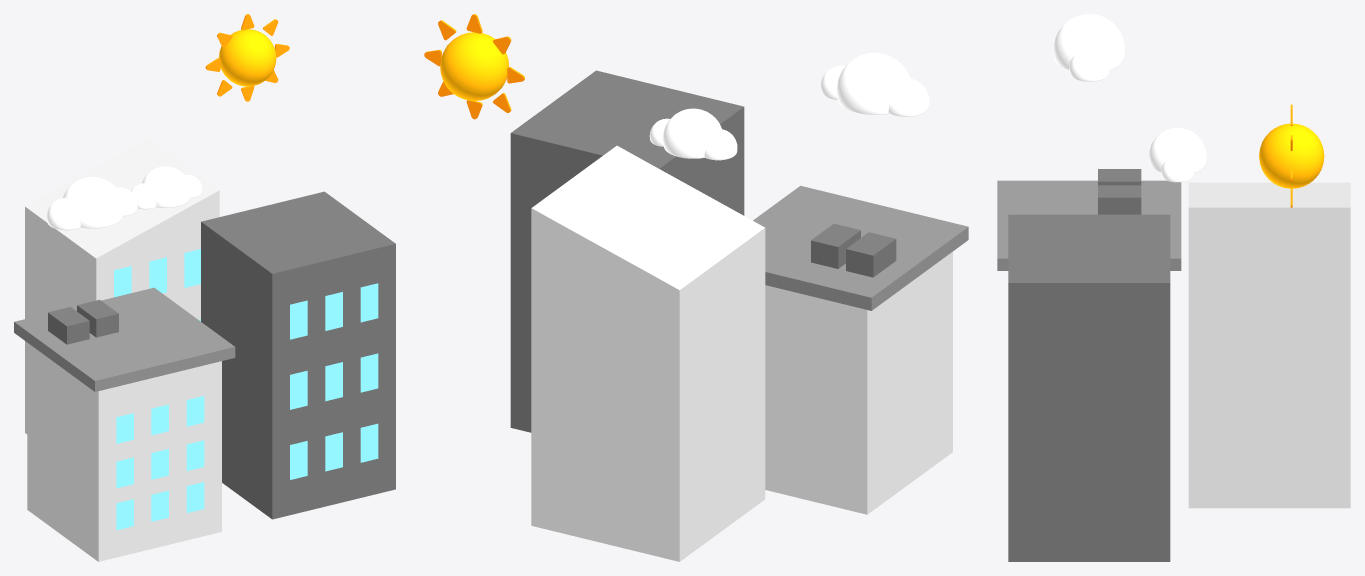
The model's file is cityscape.gltf.
3 views of the same model, side by side, from view 1: azimuth 30°, elevation 25°; view 2: azimuth 150°, elevation 25°; view 3: azimuth 270°, elevation 25° (orthographic). The views are drawn at different scales.
Visible parts, largest first — view 1: Cube.521; view 2: Cube.521; view 3: Cube.521.
Boxes of the visible parts, x1,y1,x2,y2 form: Cube.521: (14, 14, 395, 561); Cube.521: (424, 14, 968, 561); Cube.521: (997, 14, 1350, 561).
Bounding box in the file's own units: 2.13 × 2.42 × 1.74.
1 material, 1 textured.
